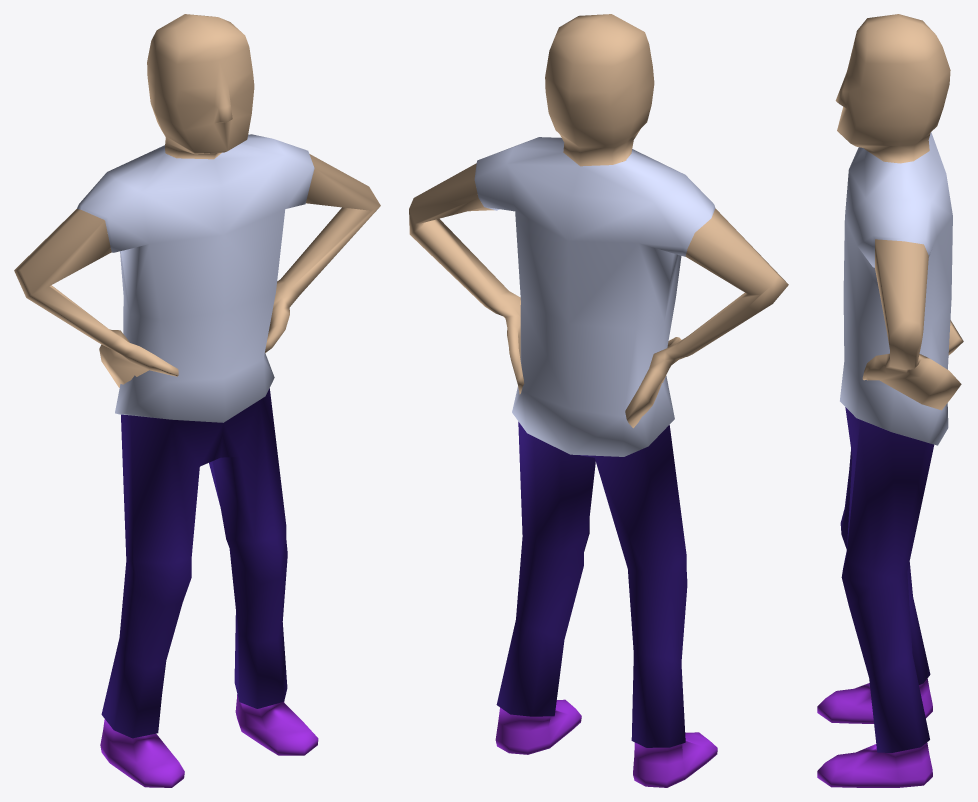
Rendered from man.glb.
The picture shows the model from 3 angles, left to right: view 1: azimuth 30°, elevation 25°; view 2: azimuth 150°, elevation 25°; view 3: azimuth 270°, elevation 25°; orthographic projection.
Parts seen in each view (by area): view 1: shirt, pants, body, shoes; view 2: shirt, pants, body, shoes; view 3: body, pants, shirt, shoes.
Boxes of the visible parts, x1,y1,x2,y2 form: shirt: (77,134,314,422); pants: (101,388,287,738); body: (14,14,380,387); shoes: (100,694,318,787); shirt: (474,137,715,456); pants: (496,421,687,747); body: (409,14,788,428); shoes: (495,699,717,787); body: (835,14,963,410); pants: (840,407,934,752); shirt: (840,132,952,445); shoes: (817,678,932,787).
Size of the model in its own units: 0.755 by 1.46 by 0.2674.
